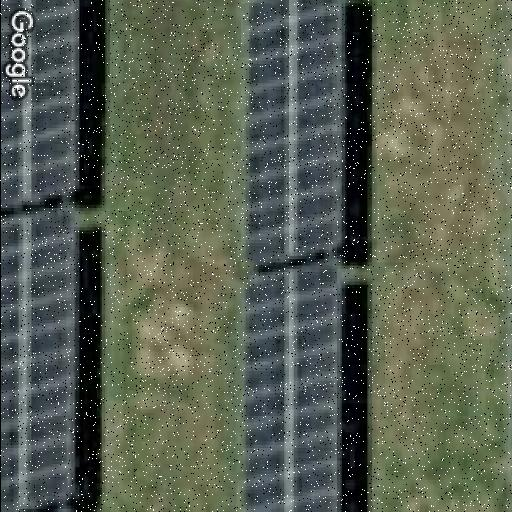solar-panel: (237, 0, 344, 512), (0, 0, 82, 512)
